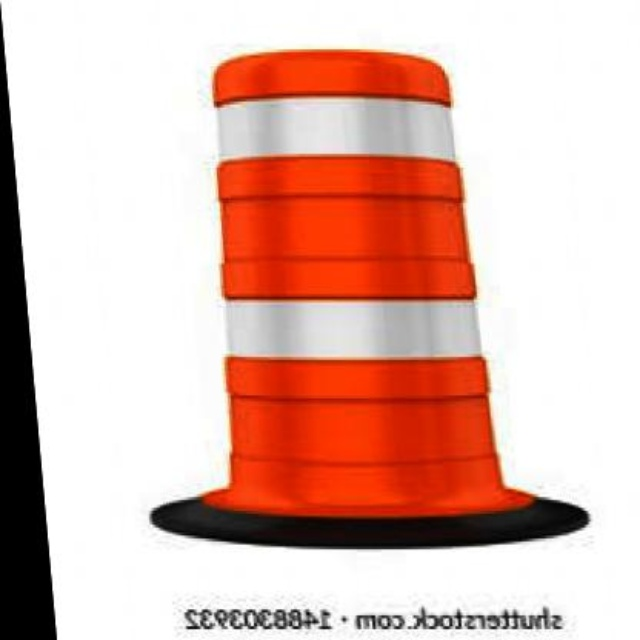obstacle: (170, 52, 520, 528)
